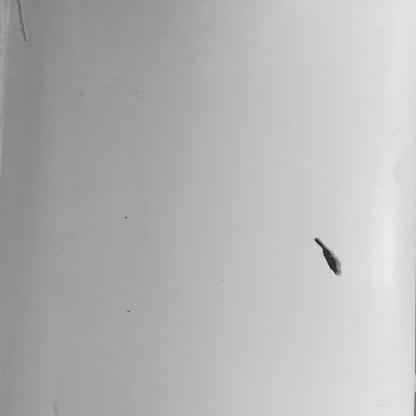kongdong: (313, 236, 348, 278)
sunshang: (8, 1, 32, 42)
